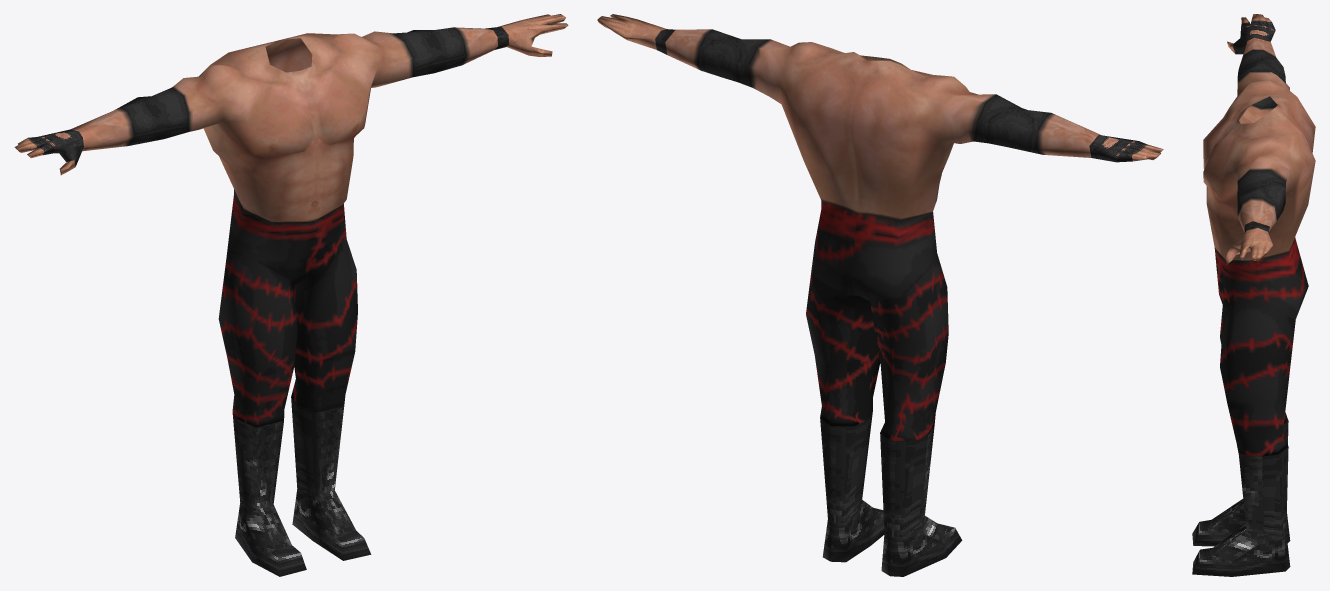
File: Kane_B.obj
The picture shows the model from 3 angles, left to right: view 1: azimuth 30°, elevation 25°; view 2: azimuth 150°, elevation 25°; view 3: azimuth 270°, elevation 25°; orthographic projection. The views are drawn at different scales.
Visible parts, largest first — view 1: Kane_B.001; view 2: Kane_B.001; view 3: Kane_B.001.
Part boxes in pixels (left/top/right/bottom): Kane_B.001: left=14, top=14, right=568, bottom=576; Kane_B.001: left=597, top=14, right=1163, bottom=576; Kane_B.001: left=1192, top=14, right=1315, bottom=576.
Bounding box in the file's own units: 19.54 × 16.82 × 4.18.
Materials: 10 (10 with a texture image).
